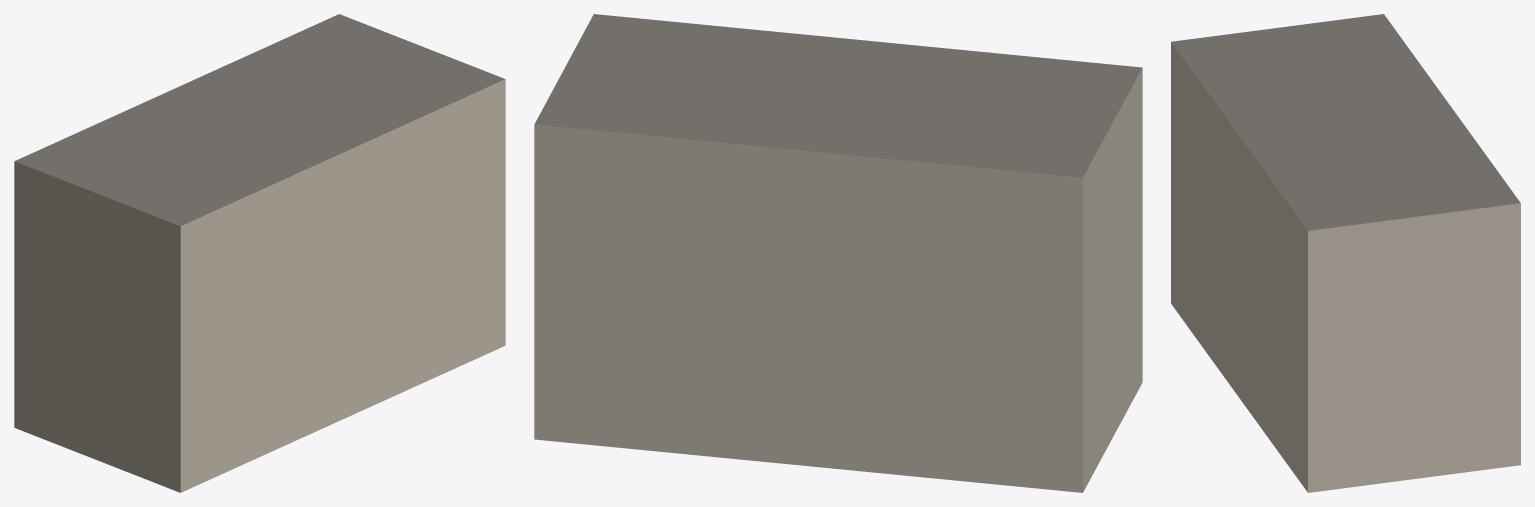
3 renders of one model, left to right at view 1: azimuth 30°, elevation 25°; view 2: azimuth 150°, elevation 25°; view 3: azimuth 270°, elevation 25°, orthographic. The views are drawn at different scales.
Visible parts, largest first — view 1: HP-w859488689; view 2: HP-w859488689; view 3: HP-w859488689.
Boxes of the visible parts, x1,y1,x2,y2 form: HP-w859488689: (14, 14, 505, 492); HP-w859488689: (534, 14, 1142, 492); HP-w859488689: (1171, 14, 1520, 492).
Bounding box in the file's own units: 31.97 × 18 × 21.78.
